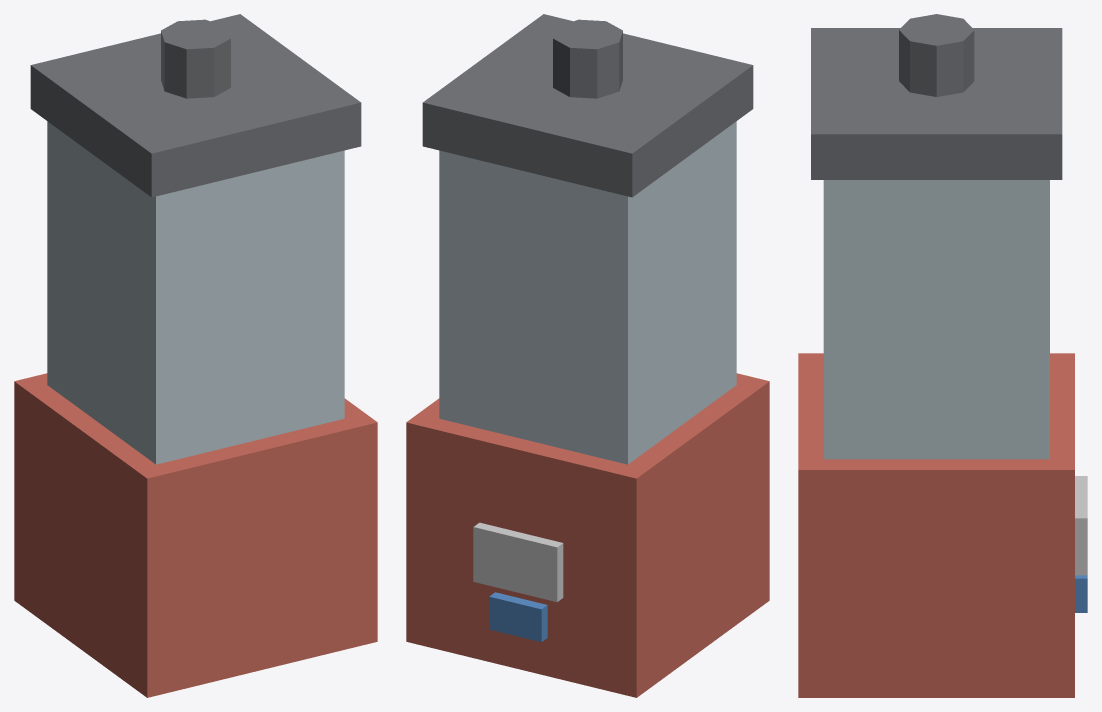
Rendered from eld_liquidificador2.glb.
The picture shows the model from 3 angles, left to right: view 1: azimuth 30°, elevation 25°; view 2: azimuth 150°, elevation 25°; view 3: azimuth 270°, elevation 25°; orthographic projection. The views are drawn at different scales.
Visible parts, largest first — view 1: ELD_LIQUIDIFICADOR2_v01; view 2: ELD_LIQUIDIFICADOR2_v01; view 3: ELD_LIQUIDIFICADOR2_v01.
Boxes of the visible parts, <box> form: ELD_LIQUIDIFICADOR2_v01: <box>14,14,377,697</box>; ELD_LIQUIDIFICADOR2_v01: <box>406,14,769,697</box>; ELD_LIQUIDIFICADOR2_v01: <box>798,14,1087,697</box>.
Size of the model in its own units: 0.22 by 0.535 by 0.23.
